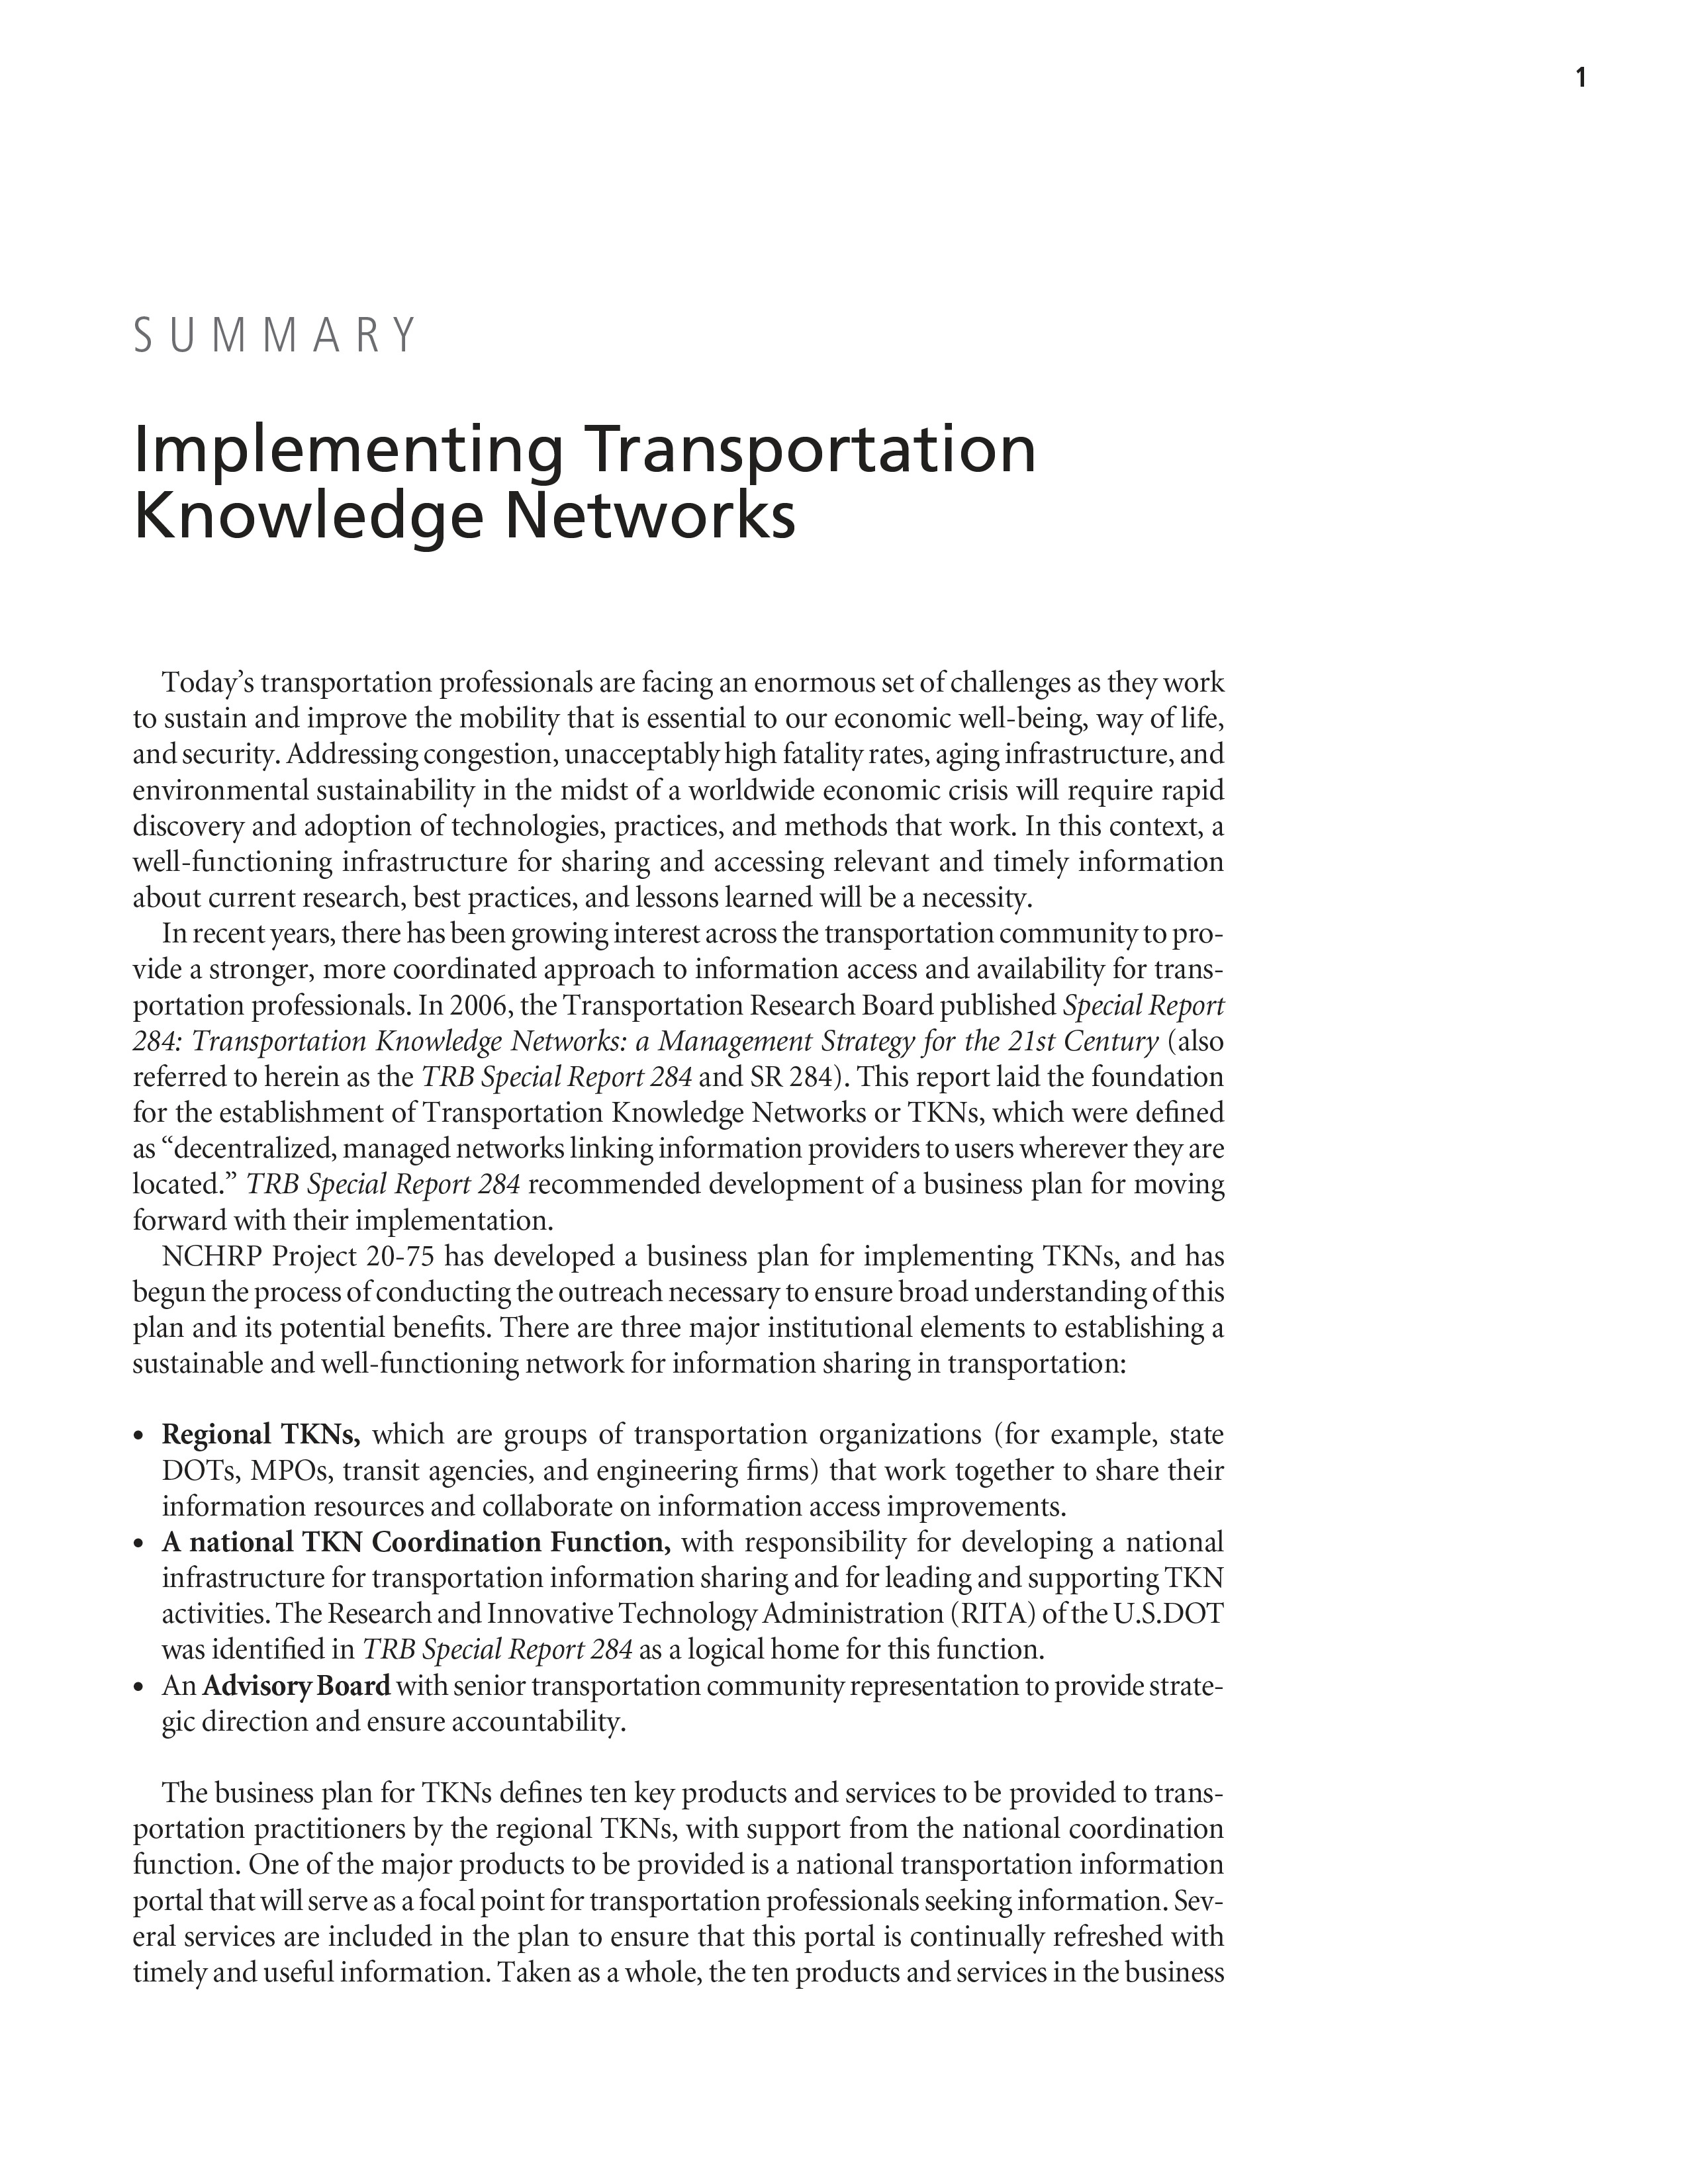list: (129, 1397, 1220, 1748)
section: (149, 413, 1037, 539), (129, 298, 429, 363)
text: (126, 1411, 1243, 1737), (137, 911, 1225, 1243), (119, 658, 1236, 922), (115, 1778, 1236, 2005), (137, 1228, 1232, 1395)
